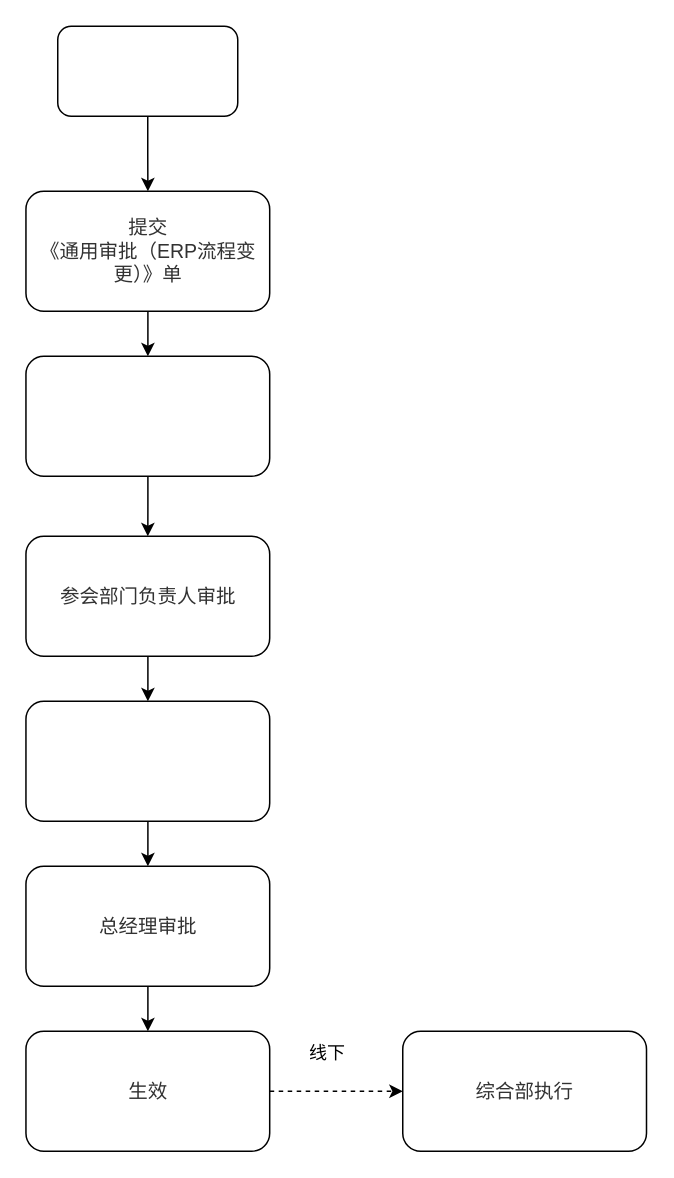
Some shapes in this 674 by 1178 pixel diagram are drawn without their labels. Each missing label, with the box of its shape:
参会分管领导审批: (24, 700, 270, 821)
发起: (56, 25, 238, 116)
部门负责人审批: (24, 355, 270, 476)
